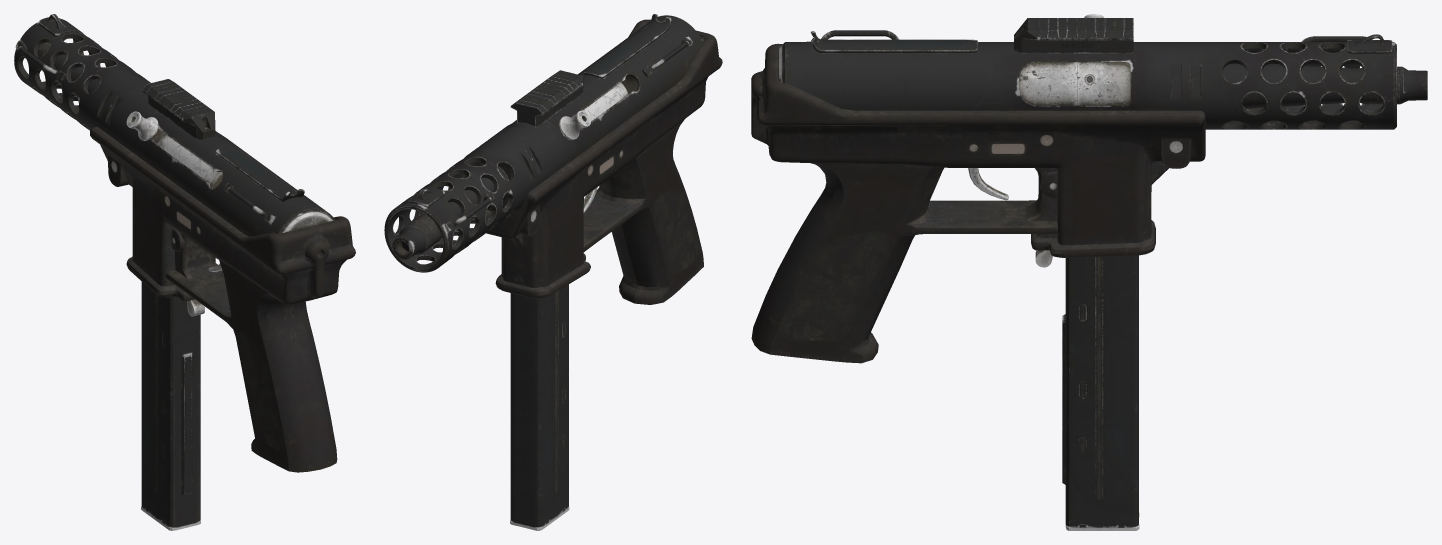
The model's file is tec9.glb.
3 renders of one model, left to right at view 1: azimuth 30°, elevation 25°; view 2: azimuth 150°, elevation 25°; view 3: azimuth 270°, elevation 25°, orthographic. The views are drawn at different scales.
Visible parts, largest first — view 1: ANCHOR, MAGAZINE, FRAME, SLIDE; view 2: ANCHOR, MAGAZINE, FRAME, SLIDE; view 3: ANCHOR, MAGAZINE, SLIDE, FRAME.
Part boxes in pixels (x1,y1,x2,y2): ANCHOR: [14, 14, 355, 472]; MAGAZINE: [141, 282, 200, 530]; FRAME: [141, 79, 215, 139]; SLIDE: [126, 111, 222, 185]; ANCHOR: [384, 14, 722, 304]; MAGAZINE: [510, 284, 569, 530]; FRAME: [510, 70, 583, 127]; SLIDE: [559, 82, 628, 139]; ANCHOR: [751, 30, 1427, 363]; MAGAZINE: [1062, 255, 1139, 530]; SLIDE: [1018, 14, 1130, 105]; FRAME: [1014, 18, 1133, 53].
Size of the model in its own units: 0.0547 by 0.259 by 0.319.
2 materials, 1 textured.
